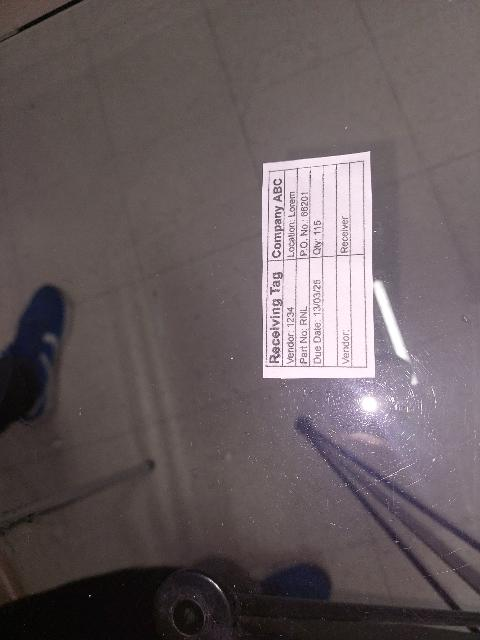PO no: (297, 168, 311, 260)
part no: (295, 258, 310, 368)
qty: (310, 165, 323, 258)
tags: (261, 152, 375, 382)
